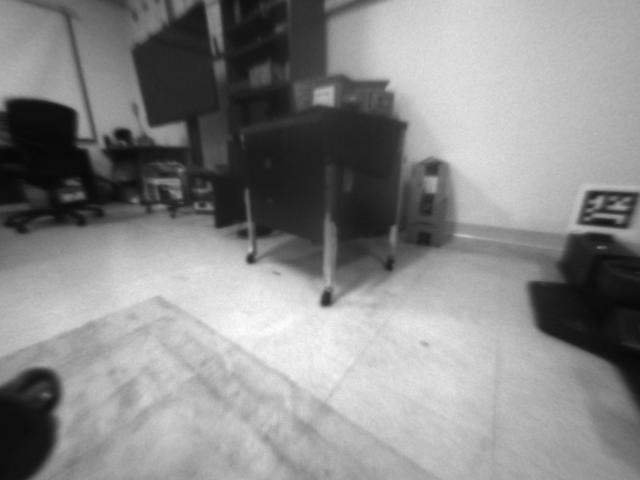coffee_cup: (291, 80, 314, 113)
